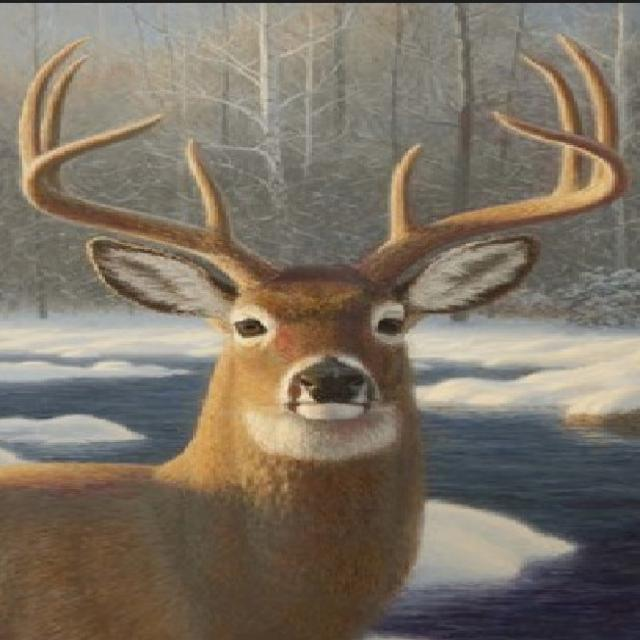L-F: (351, 109, 630, 287)
L-G1: (387, 141, 429, 237)
R-F: (18, 111, 281, 292)
R-G1: (185, 137, 233, 238)
